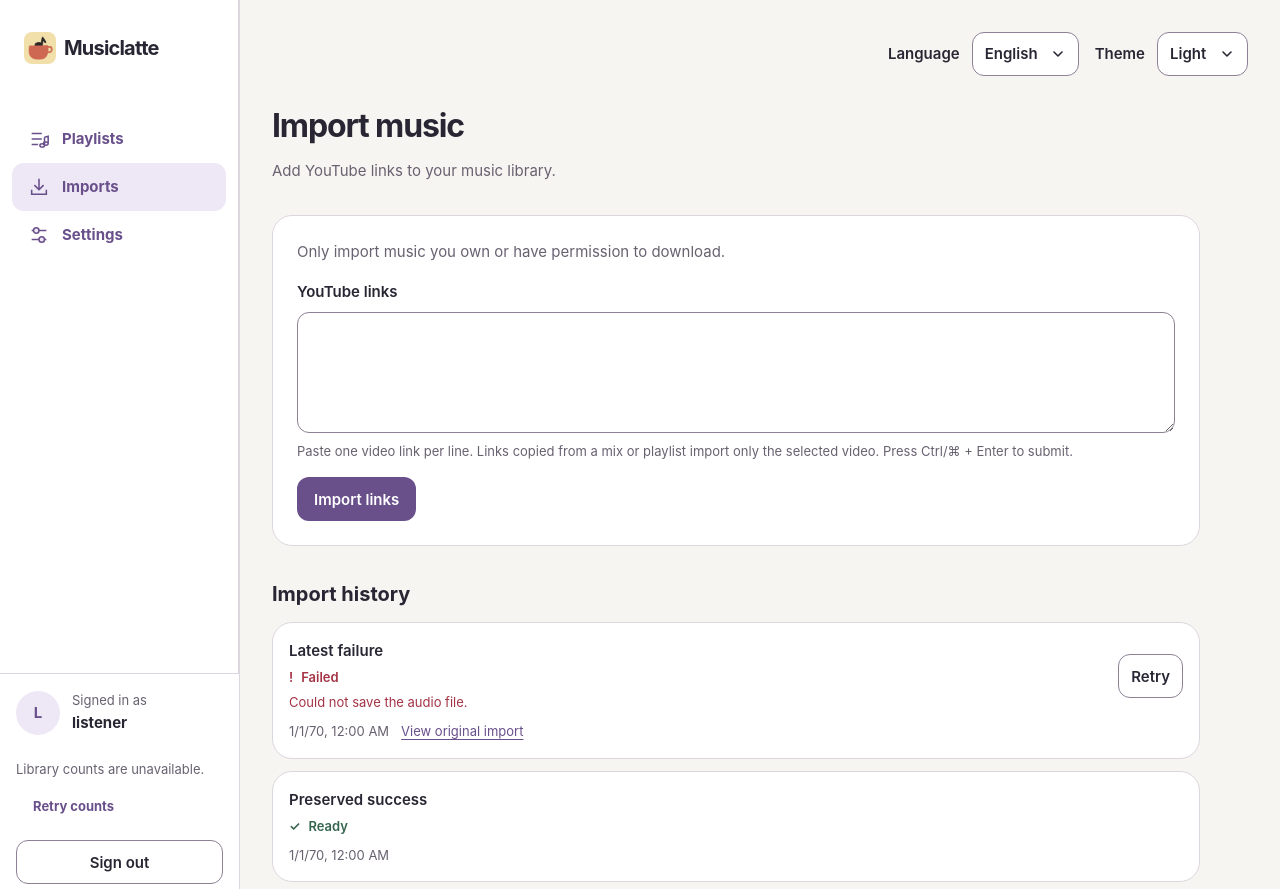
imports route and durable job UI › shows one current card for repeated failures while preserving other songs and original navigation
Expected: the heading "Latest failure" is shown, top-left (289, 641), bottom-right (383, 660)
Expected: the text "Earlier failure" is not shown
Click the link "View original import" at (462, 731), box top-left (401, 721), bottom-right (523, 742)
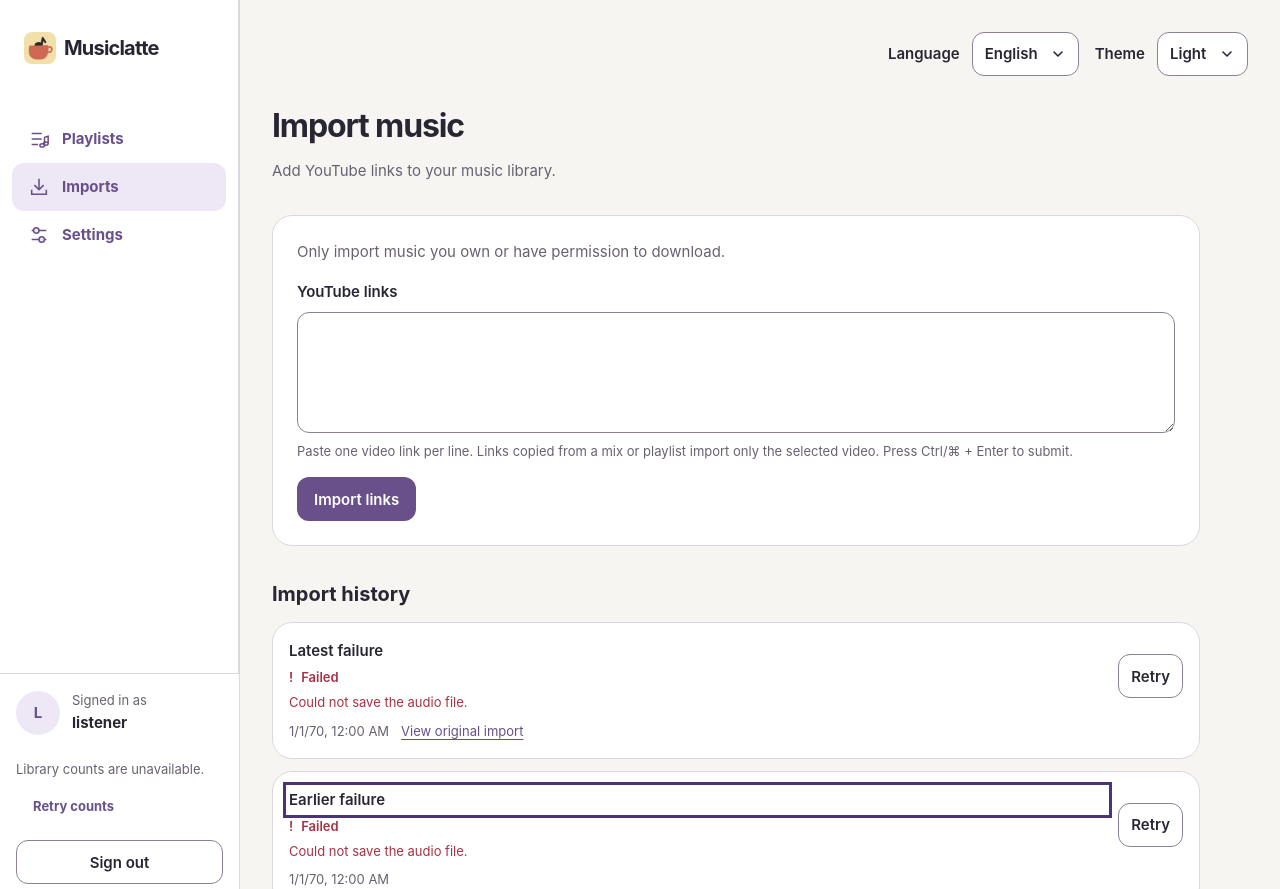
Click the button with aria-label "Retry Latest failure" at (1151, 676), box top-left (1118, 654), bottom-right (1183, 698)
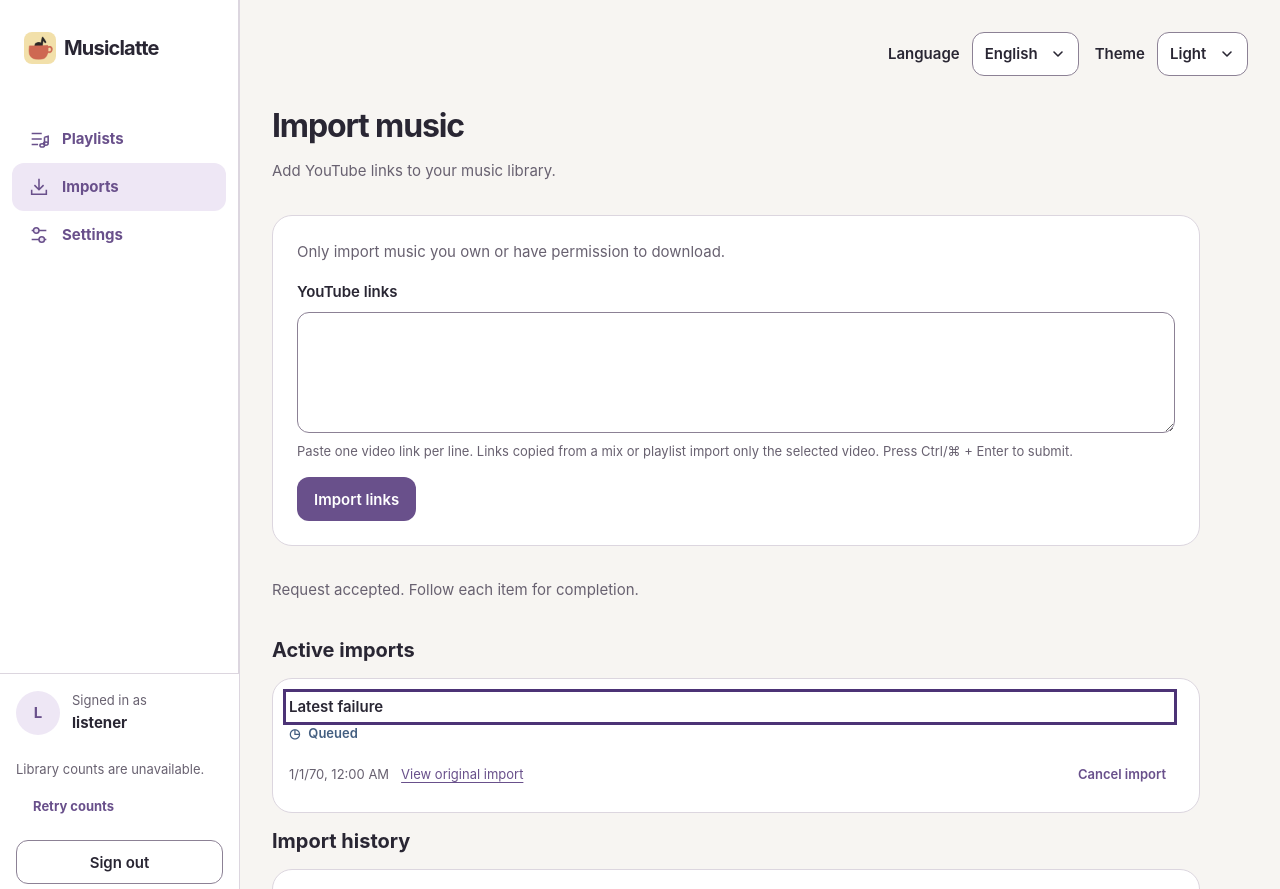
Expected: the text "Queued" is shown, top-left (308, 723), bottom-right (358, 744)
Expected: the heading "Earlier failure" is gone
Expected: the number of headings "Latest failure" is 1, top-left (289, 697), bottom-right (383, 716)
